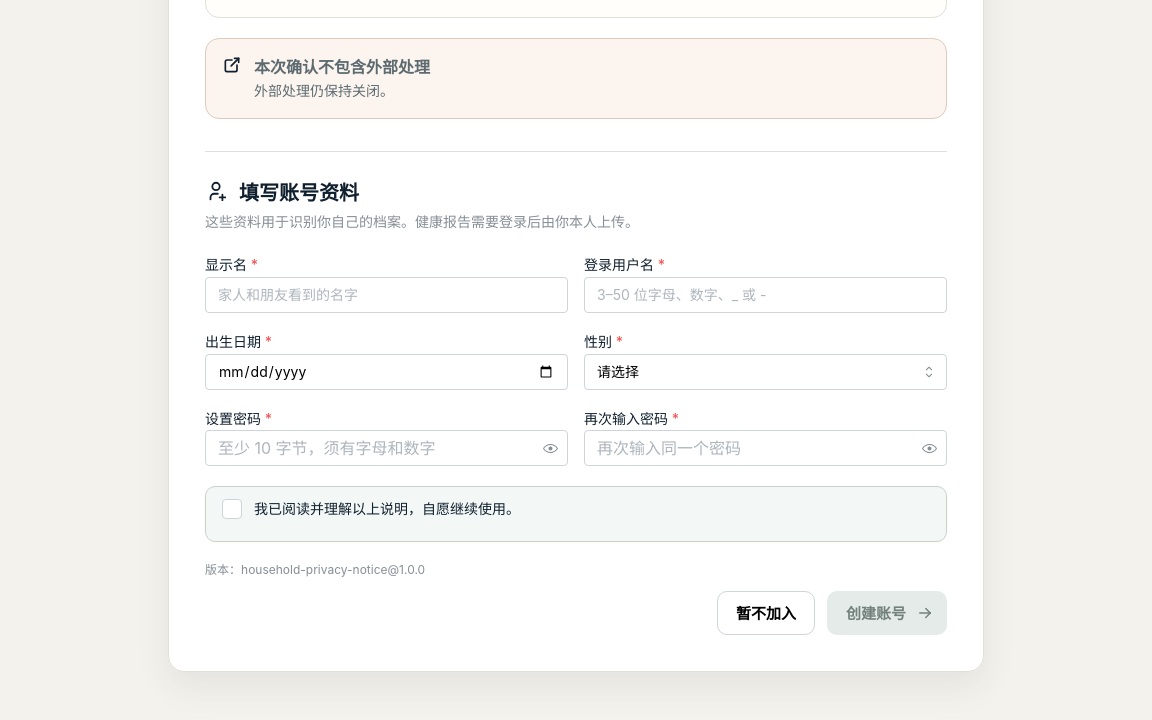
Test: AccountInvitationActivation › allows the token holder to decline without creating an account
(page scrolled)
Click the button "暂不加入" at (766, 613), box [717,591,815,635]
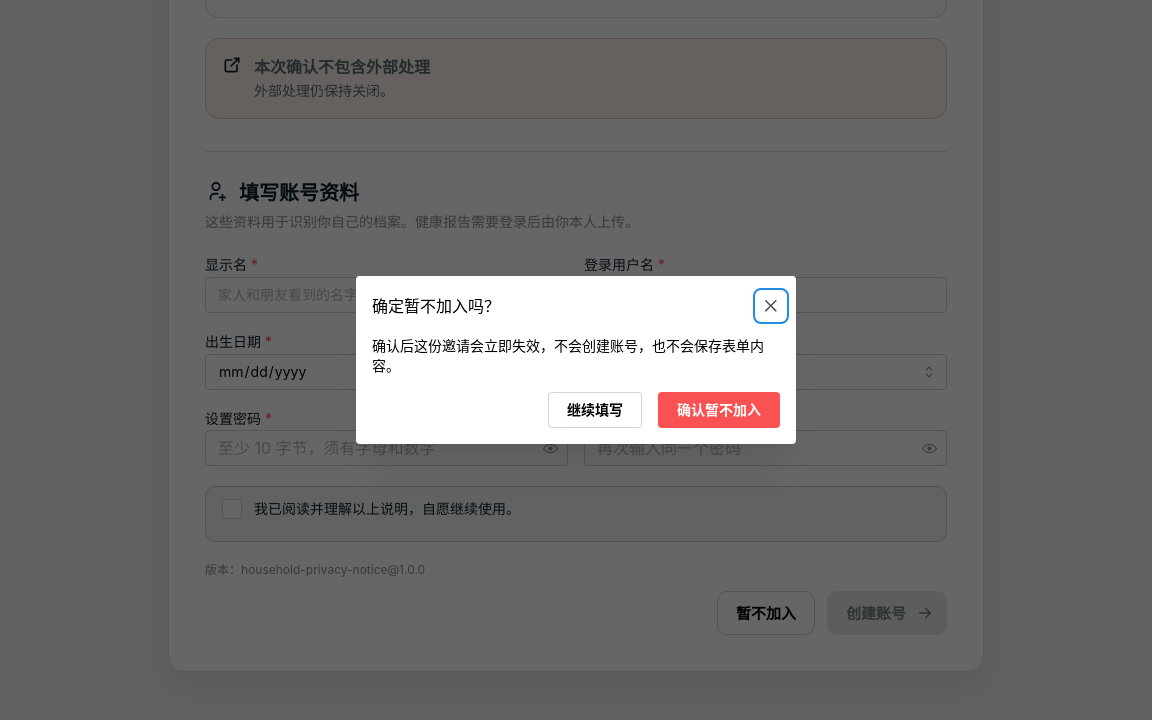
Check: the heading "确定暂不加入吗？" is shown, box [372,298,500,314]
Click the button "确认暂不加入" at (719, 410), box [658,392,780,428]
(page scrolled)
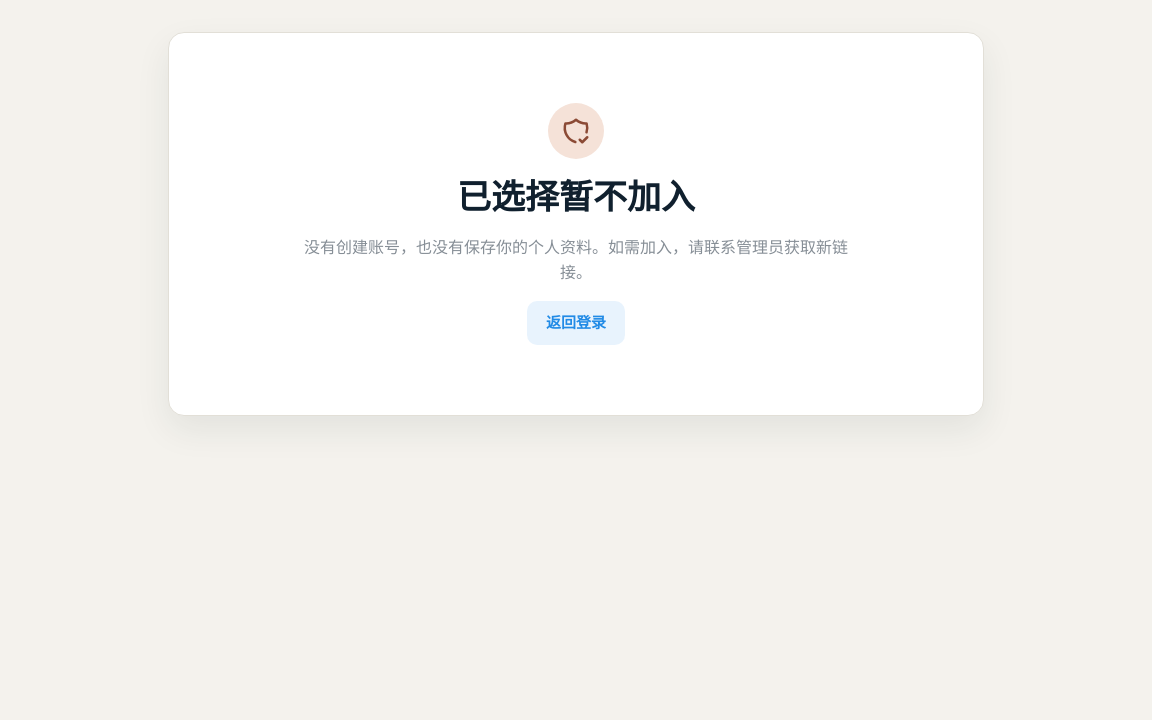
Check: the heading "已选择暂不加入" is shown, box [457,175,695,219]
